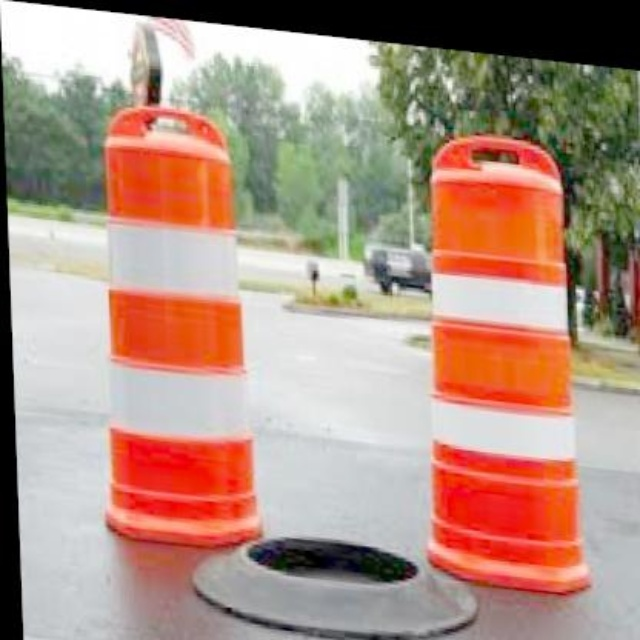obstacle: (402, 108, 603, 604), (82, 77, 251, 560)
